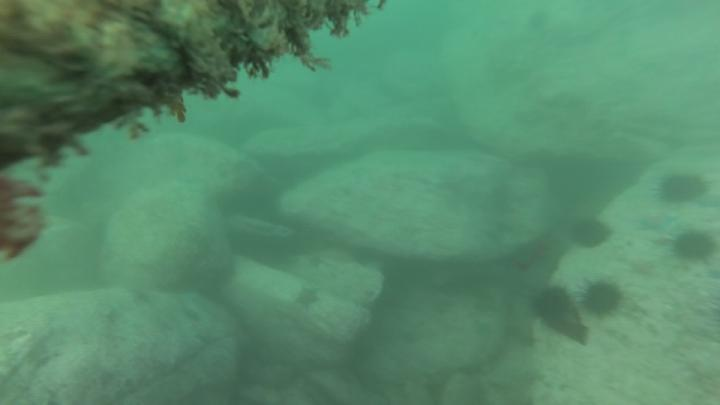echinus: (578, 278, 627, 323), (655, 170, 711, 209), (528, 283, 576, 328), (669, 226, 720, 266), (564, 217, 616, 251), (524, 7, 551, 32)
starfish: (292, 285, 323, 313), (301, 250, 331, 272)
